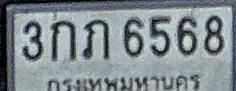3: (22, 20, 43, 60)
5: (150, 15, 170, 56)
6: (177, 15, 197, 55), (123, 17, 143, 56)
8: (204, 14, 224, 54)
A01: (50, 20, 76, 60)
A32: (82, 18, 110, 59)
BKK: (45, 71, 202, 91)
